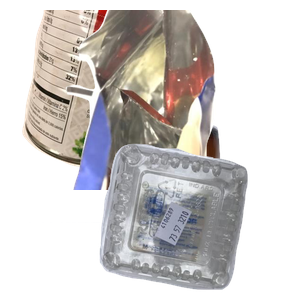glass: (29, 120, 242, 300)
metal: (20, 10, 199, 172)
plastic: (97, 141, 300, 300)
trash: (63, 10, 300, 190)
